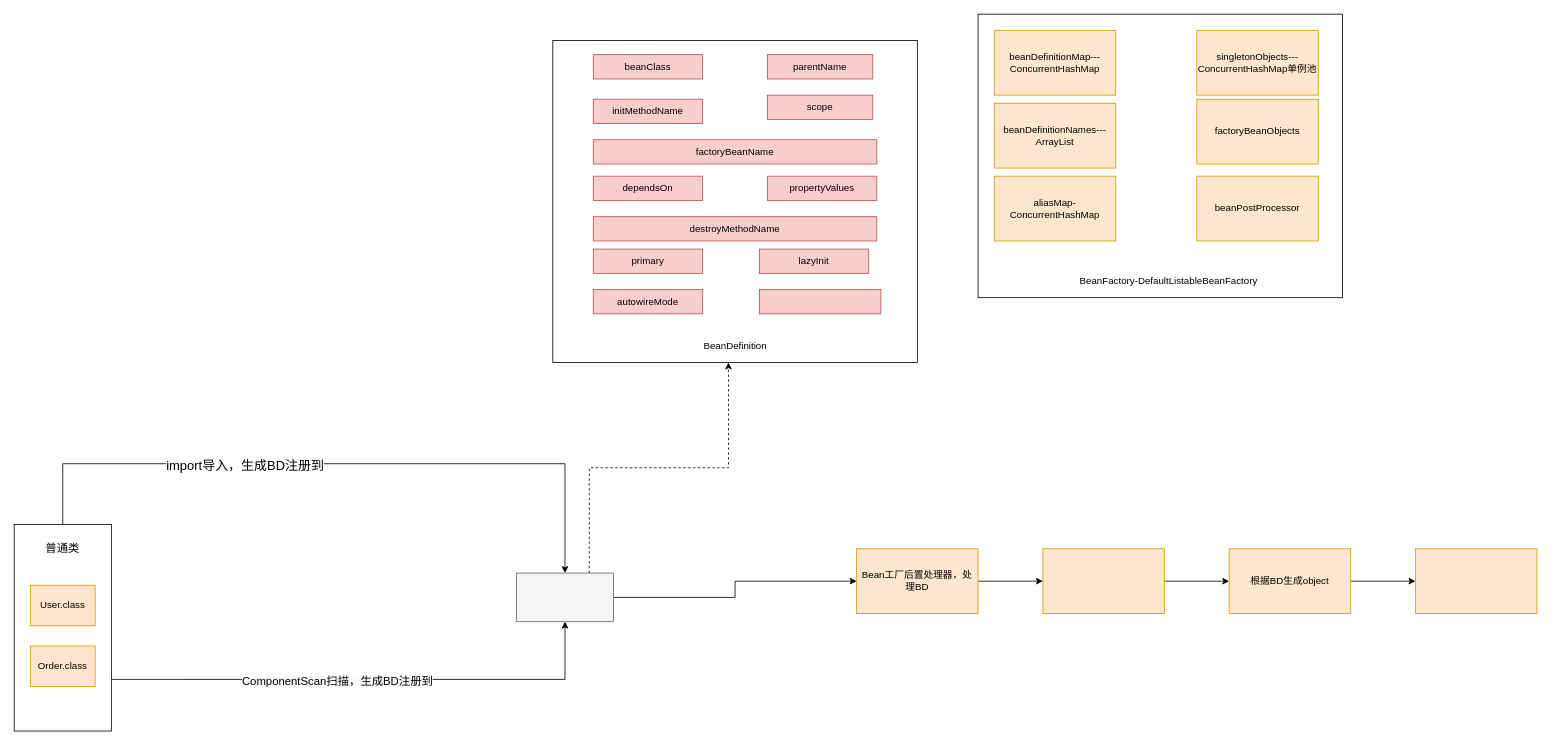
Some shapes in this 1551 by 745 pixel diagram are drawn without their labels. The shapes that lost their labels are listed below. From the top down, each one's centre as x and y in pixels, then its label:
At point (820, 301): "constructArgumentValues".
At point (565, 597): "beanDefinitionMap".
At point (1103, 581): "推断构造方法".
At point (1476, 581): "执行Bean后置处理器".
